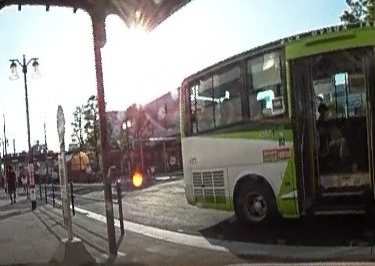person: (4, 163, 17, 203)
